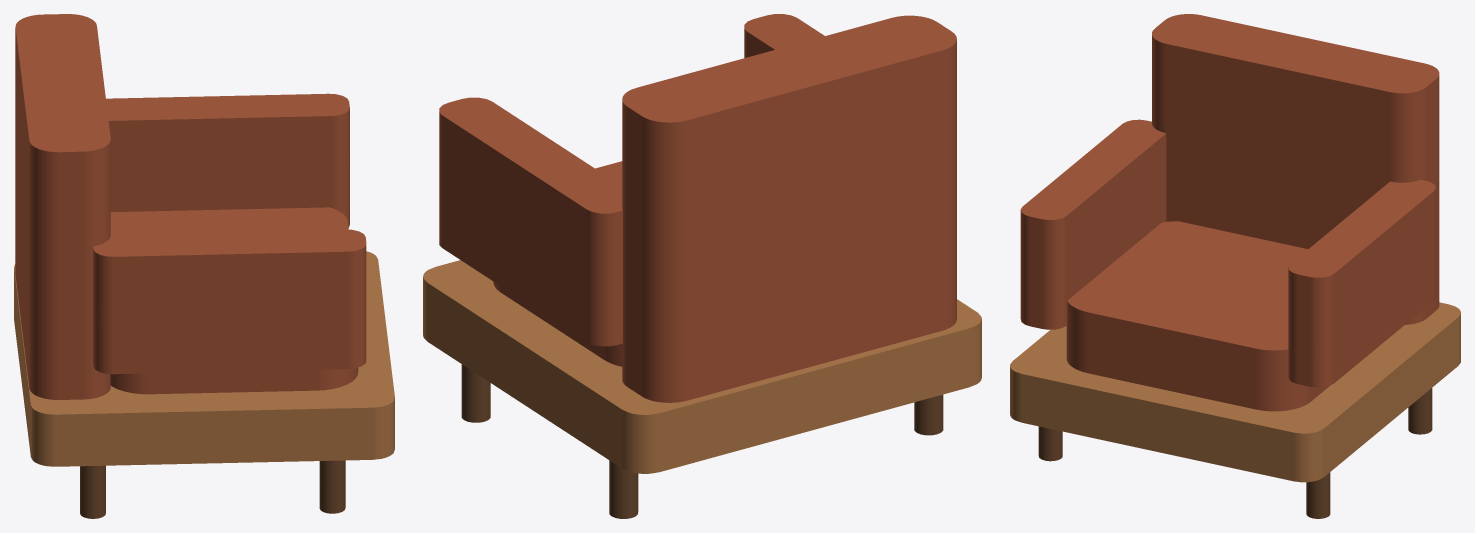
Rendered from living-lounge-chair.gltf.
3 renders of one model, left to right at view 1: azimuth 30°, elevation 25°; view 2: azimuth 150°, elevation 25°; view 3: azimuth 270°, elevation 25°, orthographic. The views are drawn at different scales.
Visible parts, largest first — view 1: Living lounge chair arm rest (×2), Living lounge chair upholstered back, Living lounge chair timber base, Living lounge chair seat cushion, Living lounge chair tapered leg (×2); view 2: Living lounge chair upholstered back, Living lounge chair timber base, Living lounge chair arm rest (×2), Living lounge chair tapered leg (×3), Living lounge chair seat cushion; view 3: Living lounge chair upholstered back, Living lounge chair arm rest (×2), Living lounge chair seat cushion, Living lounge chair timber base, Living lounge chair tapered leg (×3).
Boxes of the visible parts, x1,y1,x2,y2 form: Living lounge chair arm rest (×2): (93, 93, 366, 374); Living lounge chair upholstered back: (15, 14, 110, 399); Living lounge chair timber base: (14, 251, 394, 466); Living lounge chair seat cushion: (110, 207, 358, 394); Living lounge chair tapered leg (×2): (80, 460, 345, 518); Living lounge chair upholstered back: (622, 15, 956, 402); Living lounge chair timber base: (423, 260, 981, 473); Living lounge chair arm rest (×2): (439, 14, 824, 346); Living lounge chair tapered leg (×3): (461, 364, 943, 518); Living lounge chair seat cushion: (493, 161, 622, 366); Living lounge chair upholstered back: (1152, 14, 1439, 324); Living lounge chair arm rest (×2): (1020, 119, 1435, 387); Living lounge chair seat cushion: (1066, 221, 1330, 411); Living lounge chair timber base: (1010, 302, 1460, 482); Living lounge chair tapered leg (×3): (1038, 388, 1432, 518).
Bounding box in the file's own units: 0.9965 × 0.835 × 1.01.
